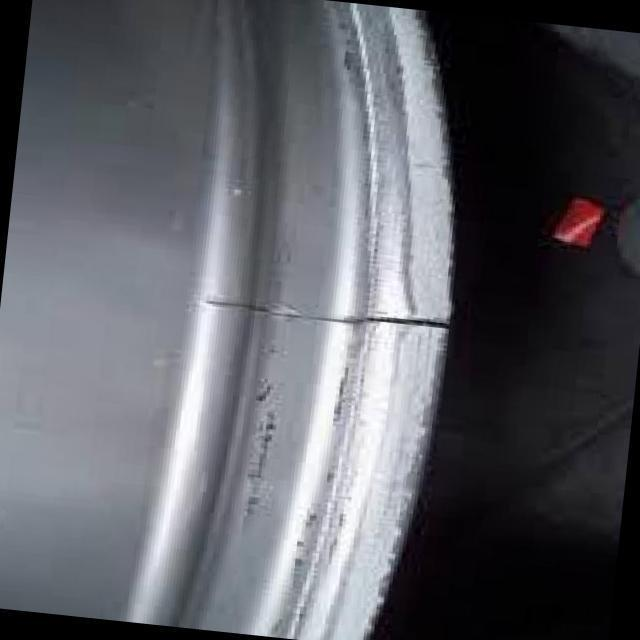defect: (198, 293, 455, 330)
